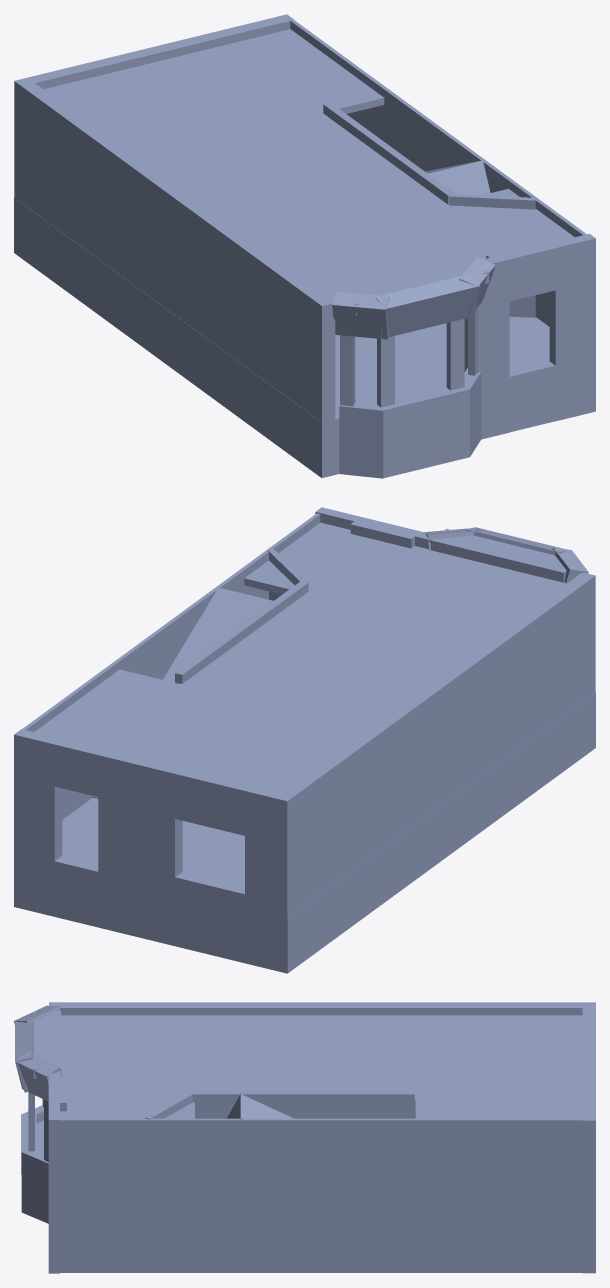
The model's file is HouseA_MainFloor_collision.fbx.
3 renders of one model, top to bottom at view 1: azimuth 30°, elevation 25°; view 2: azimuth 150°, elevation 25°; view 3: azimuth 270°, elevation 25°, orthographic. The views are drawn at different scales.
Parts seen in each view (by area): view 1: HouseA_MainFloor_collision; view 2: HouseA_MainFloor_collision; view 3: HouseA_MainFloor_collision.
Part boxes in pixels (x1,y1,x2,y2): HouseA_MainFloor_collision: (14, 14, 595, 478); HouseA_MainFloor_collision: (14, 507, 595, 973); HouseA_MainFloor_collision: (14, 1002, 595, 1273).
Size of the model in its own units: 969 by 600 by 2007.
